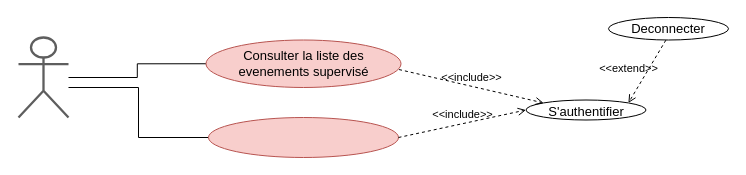
Image size: 746x175. Some labels were removed from this diagram. The shapes that lost their labels are listed below. From the top down, each one's centre as x and y in pixels, then its label:
point 43,77: superviseur
point 303,137: Verfier les reservations des clients avec Qr reader
